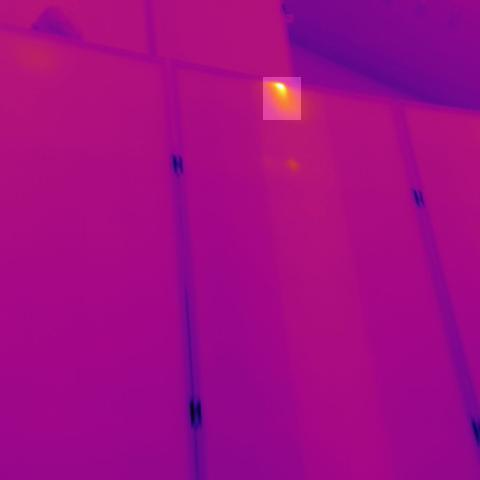fault: (264, 77, 301, 120)
